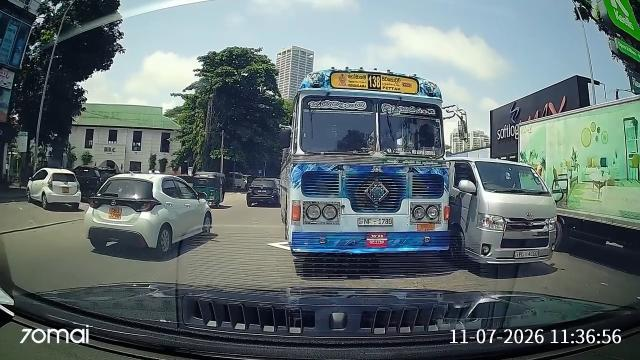illegal overtaking: (262, 70, 461, 276)
number plate: (359, 212, 395, 230)
